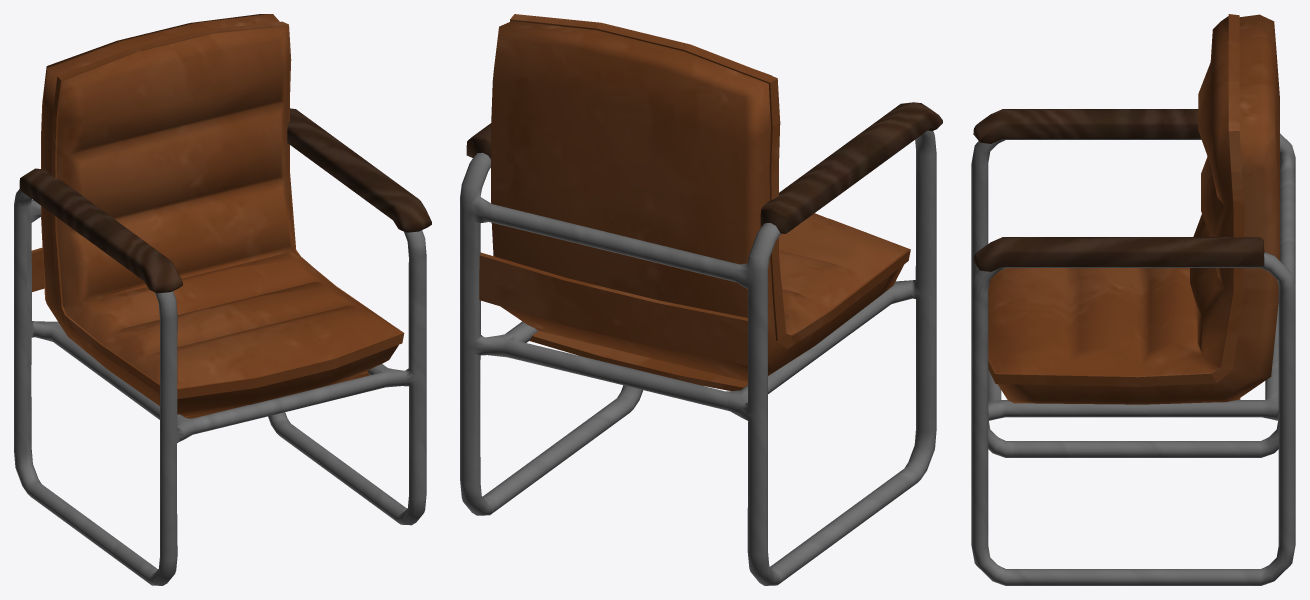
File: chair.glb
3 renders of one model, left to right at view 1: azimuth 30°, elevation 25°; view 2: azimuth 150°, elevation 25°; view 3: azimuth 270°, elevation 25°, orthographic. The views are drawn at different scales.
Visible parts, largest first — view 1: Arm_Chair; view 2: Arm_Chair; view 3: Arm_Chair.
Boxes of the visible parts, x1,y1,x2,y2 form: Arm_Chair: (14, 14, 431, 585); Arm_Chair: (460, 14, 942, 585); Arm_Chair: (971, 14, 1295, 585).
Bounding box in the file's own units: 0.8369 × 1.26 × 0.8039.
Materials: 3 (3 with a texture image).
